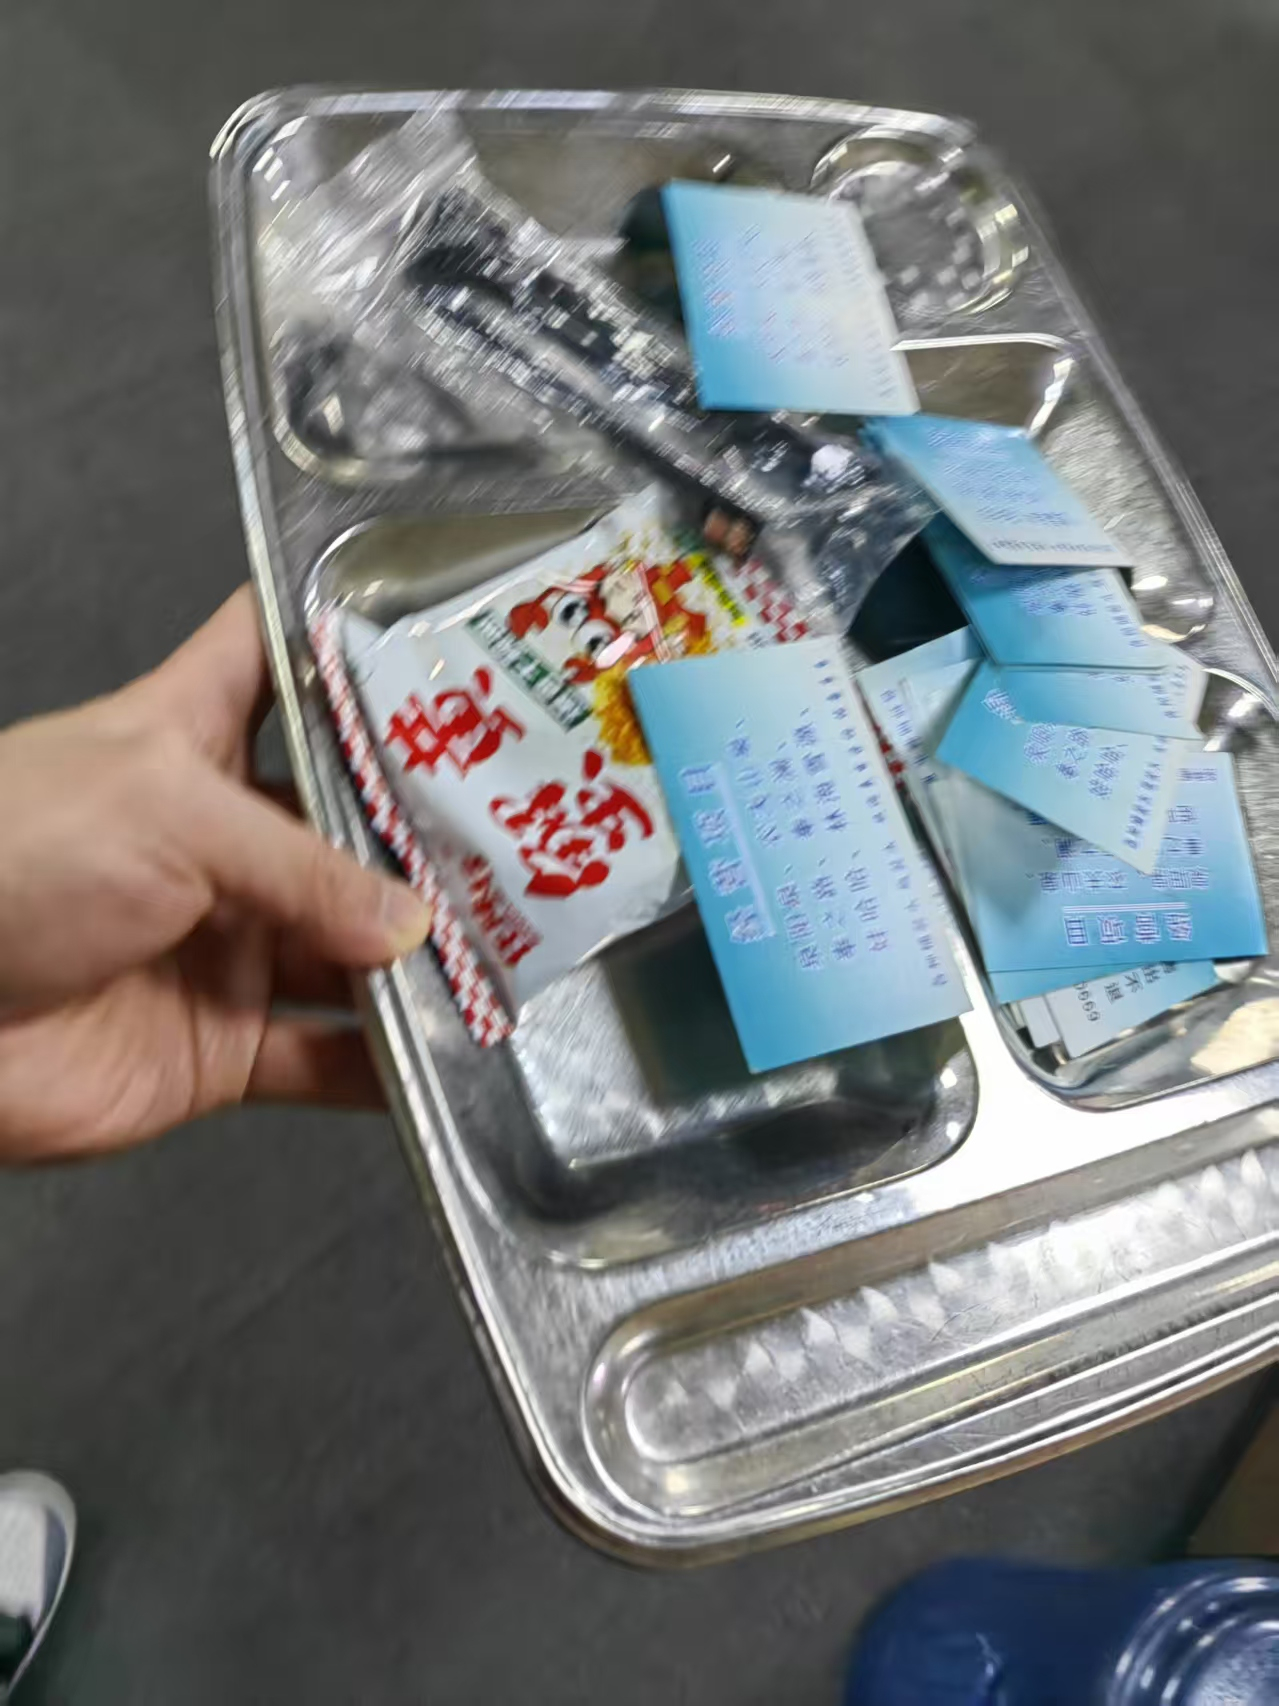plate: (213, 80, 1279, 1575)
severe: (298, 167, 1270, 1067)
